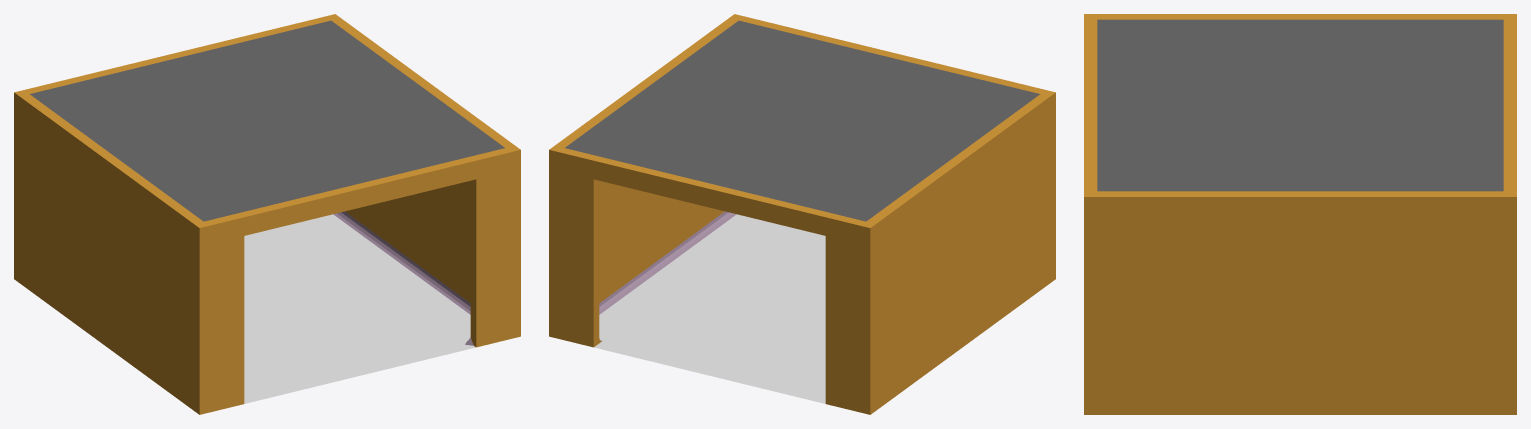
Rendered from simpleCoridor1.fbx.
3 views of the same model, side by side, from view 1: azimuth 30°, elevation 25°; view 2: azimuth 150°, elevation 25°; view 3: azimuth 270°, elevation 25° (orthographic). The views are drawn at different scales.
Visible parts, largest first — view 1: Plane; view 2: Plane; view 3: Plane.
Part boxes in pixels (left/top/right/bottom): Plane: left=14, top=14, right=520, bottom=414; Plane: left=549, top=14, right=1055, bottom=414; Plane: left=1084, top=14, right=1516, bottom=414.
Bounding box in the file's own units: 9 × 5 × 9.
